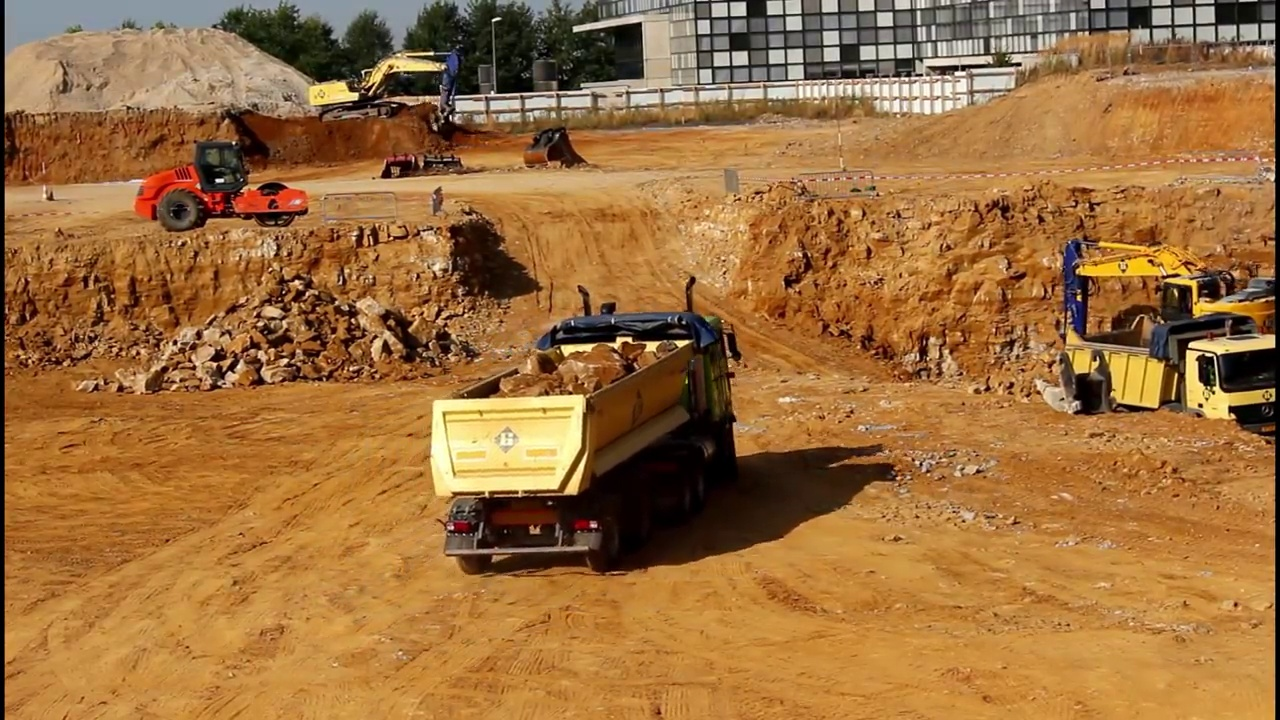compactor: (131, 141, 313, 233)
excavator: (1054, 233, 1280, 396), (307, 47, 465, 147)
truck: (429, 271, 746, 578), (1058, 314, 1280, 459)
